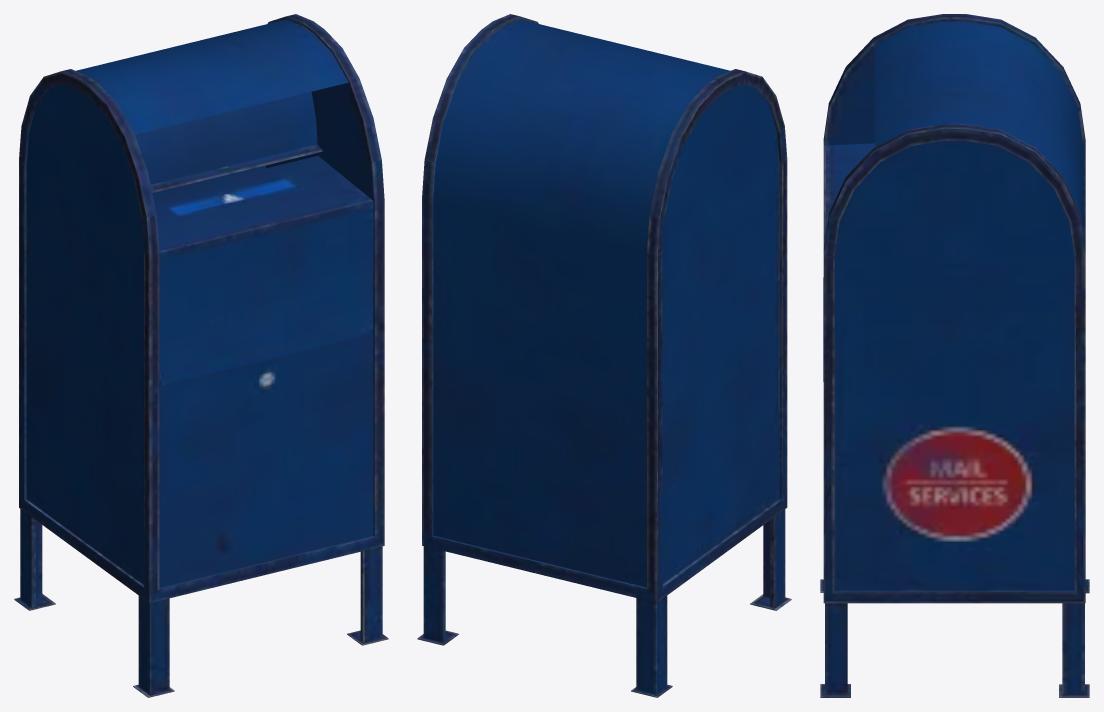
Rendered from mailbox.glb.
The picture shows the model from 3 angles, left to right: view 1: azimuth 30°, elevation 25°; view 2: azimuth 150°, elevation 25°; view 3: azimuth 270°, elevation 25°; orthographic projection.
Parts seen in each view (by area): view 1: MailBox; view 2: MailBox; view 3: MailBox.
Boxes of the visible parts, box(x1,y1,x2,y2) form: MailBox: box(14, 14, 388, 697); MailBox: box(417, 14, 791, 697); MailBox: box(820, 14, 1089, 697).
Bounding box in the file's own units: 0.4979 × 1.12 × 0.4812.
Materials: 1 (1 with a texture image).
